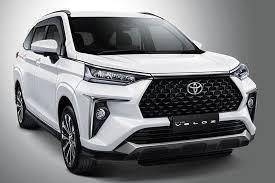toyota: (184, 79, 203, 94)
